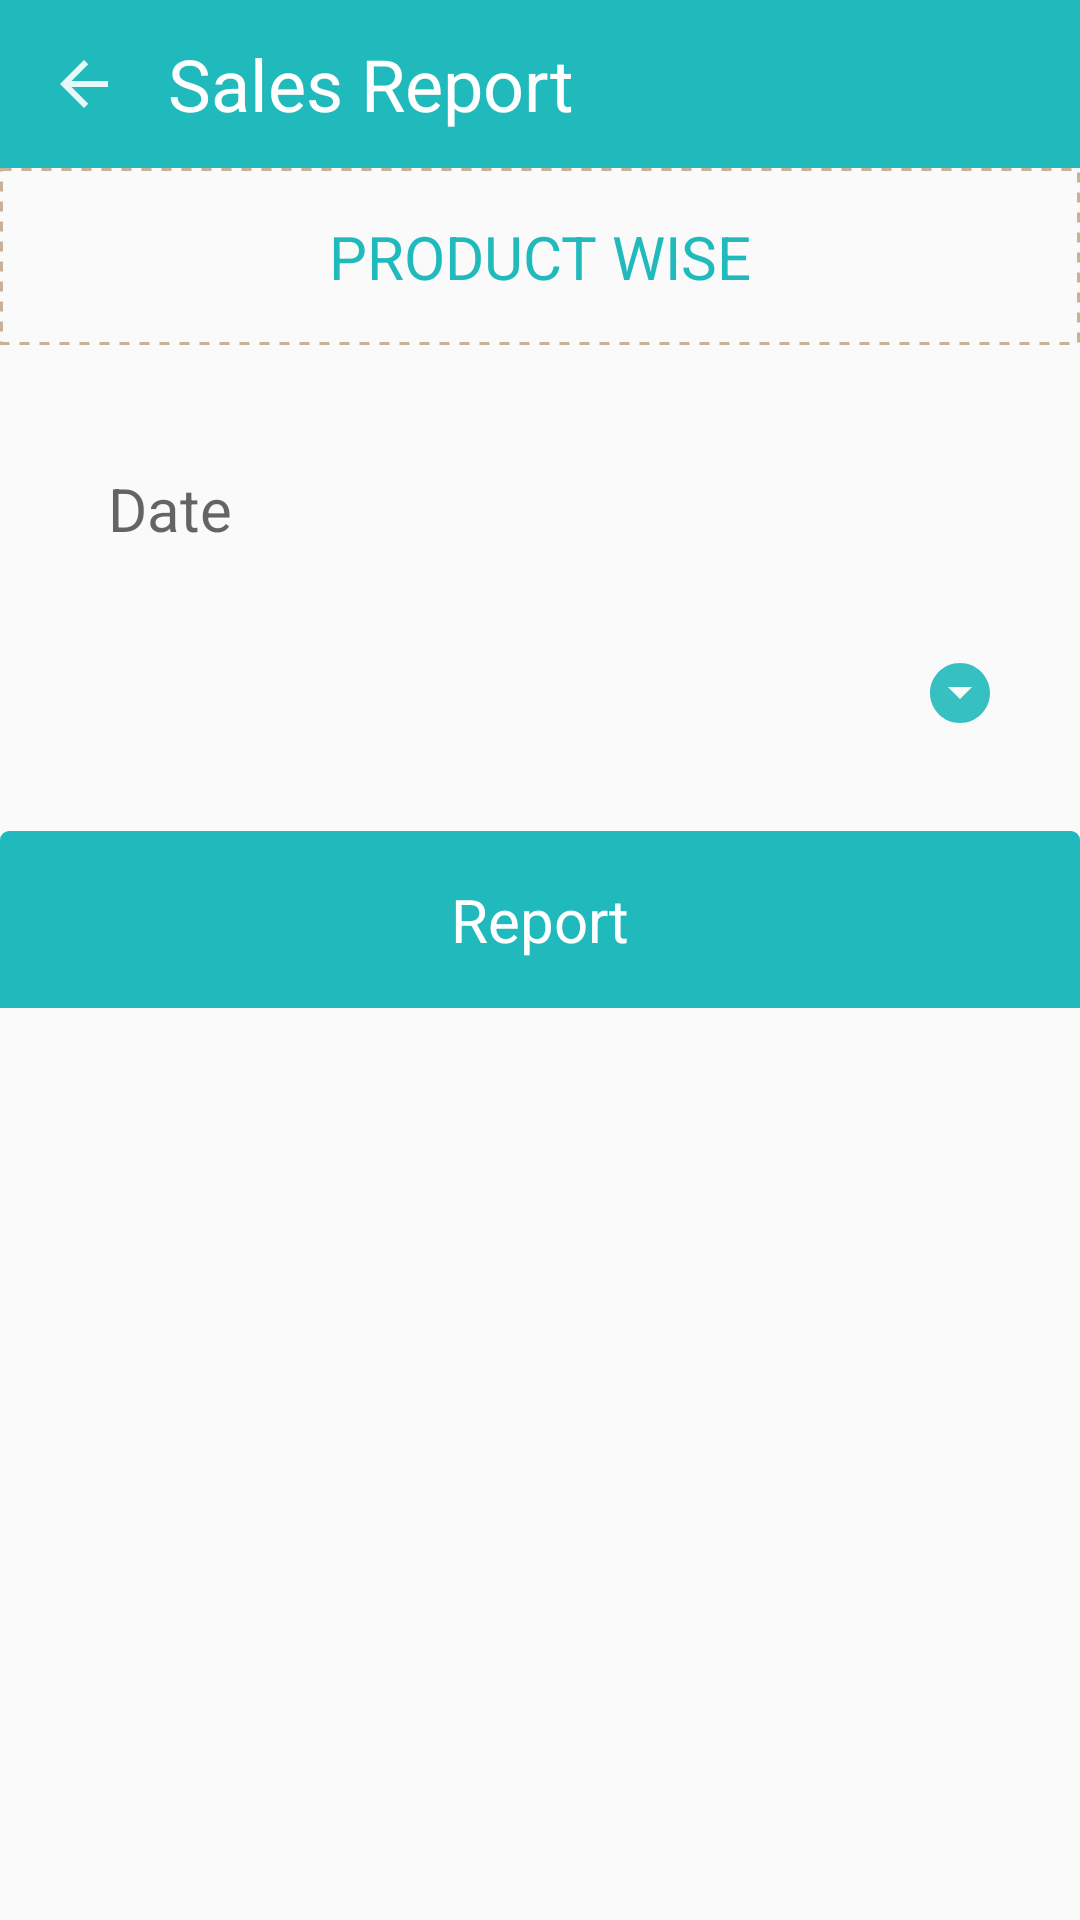

Screen size 1080*1920. Icon name, then its box in pixels as (x1, y1, x2, y2):
arrow: (930, 663, 990, 723)
arrow back: (60, 60, 108, 108)
